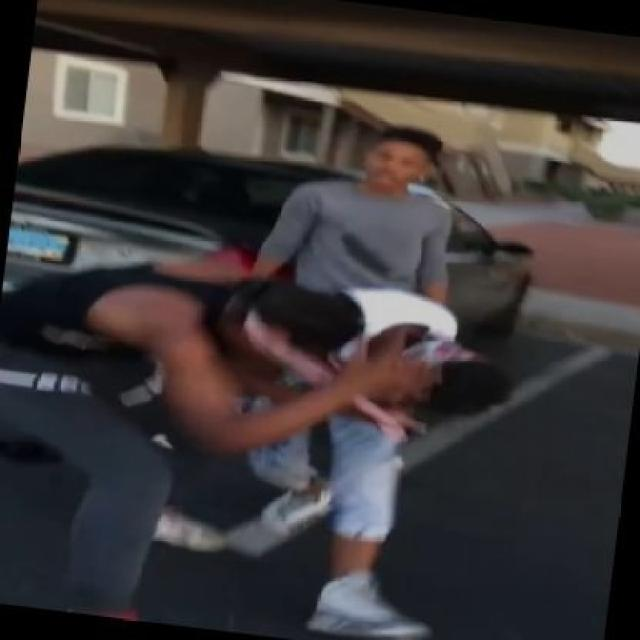fight: (6, 121, 585, 638)
non-fight: (214, 95, 449, 640)
